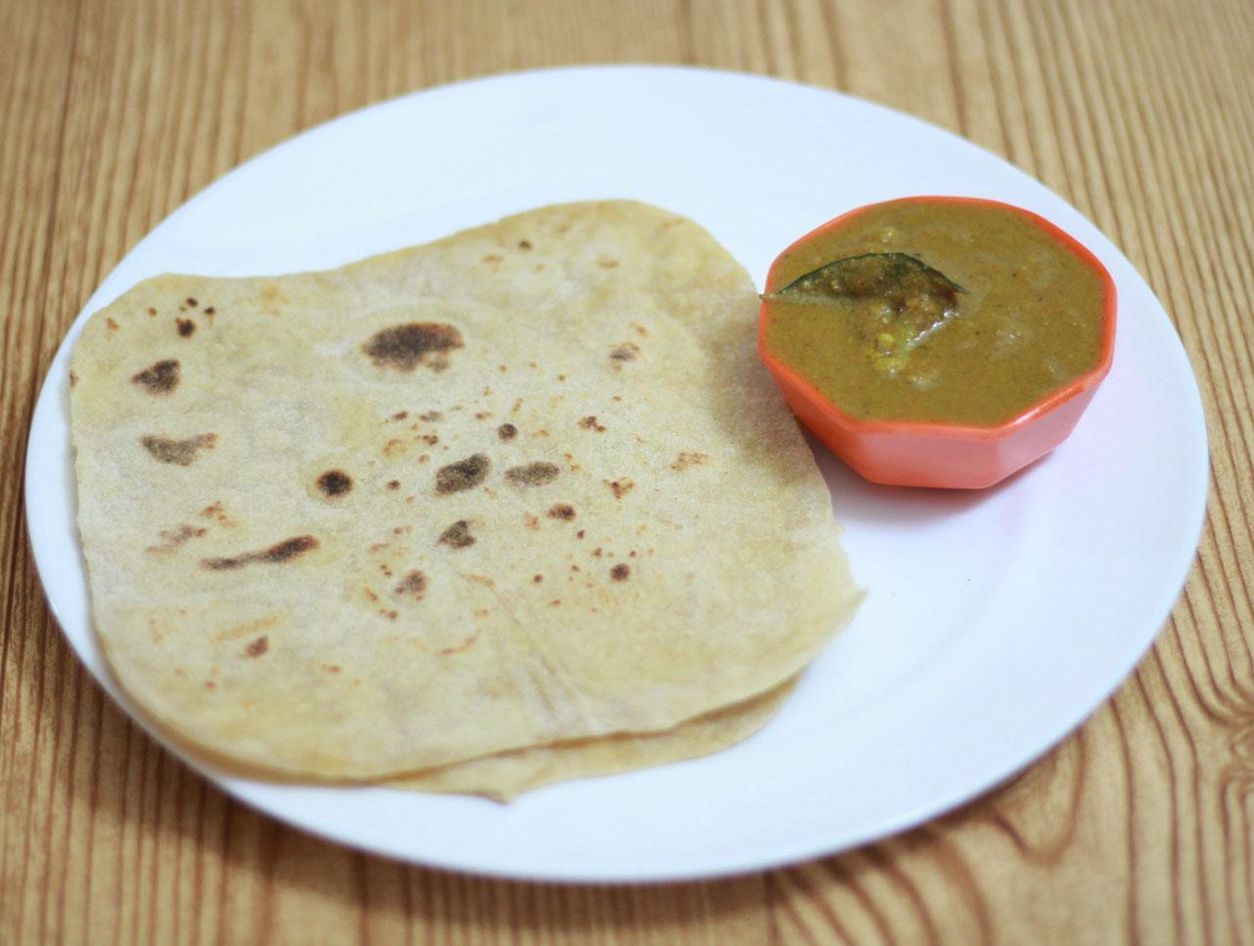roti: (59, 206, 861, 806)
